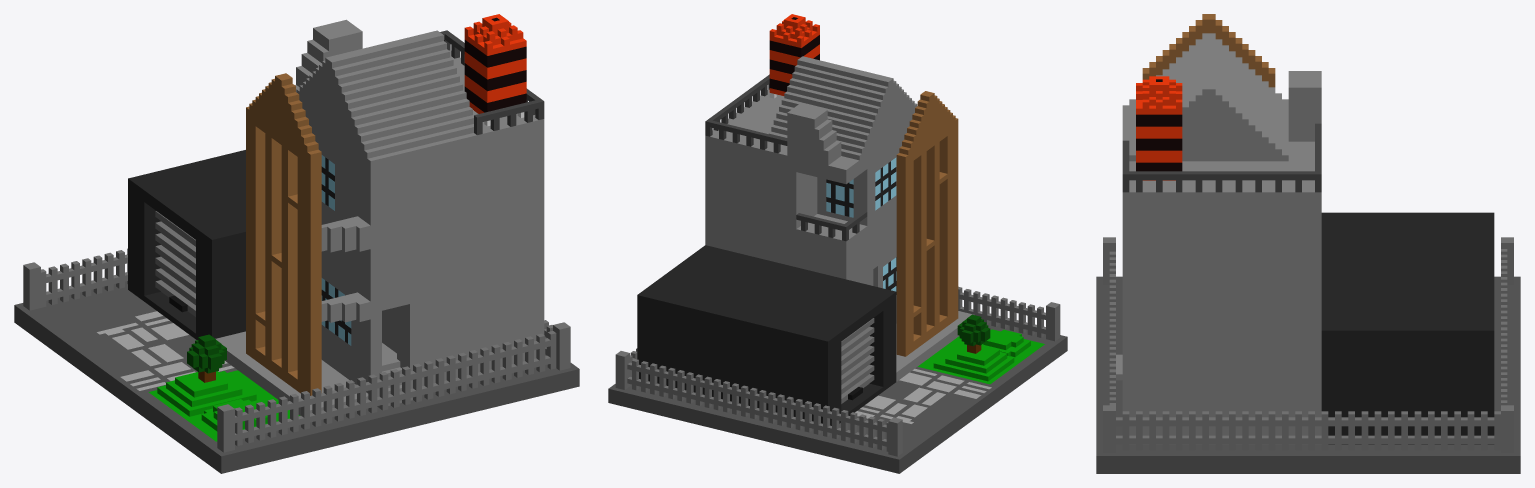
File: house-2.obj
3 renders of one model, left to right at view 1: azimuth 30°, elevation 25°; view 2: azimuth 150°, elevation 25°; view 3: azimuth 270°, elevation 25°, orthographic. The views are drawn at different scales.
Size of the model in its own units: 6.4 by 6.1 by 6.4.
Materials: 1 (1 with a texture image).
